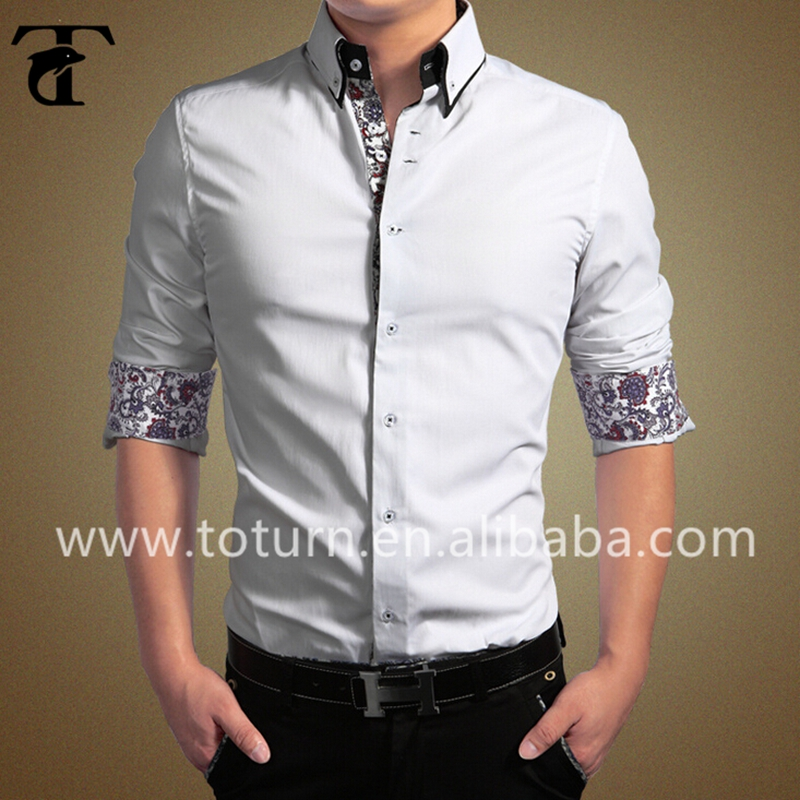Shirt: (108, 60, 688, 671)
